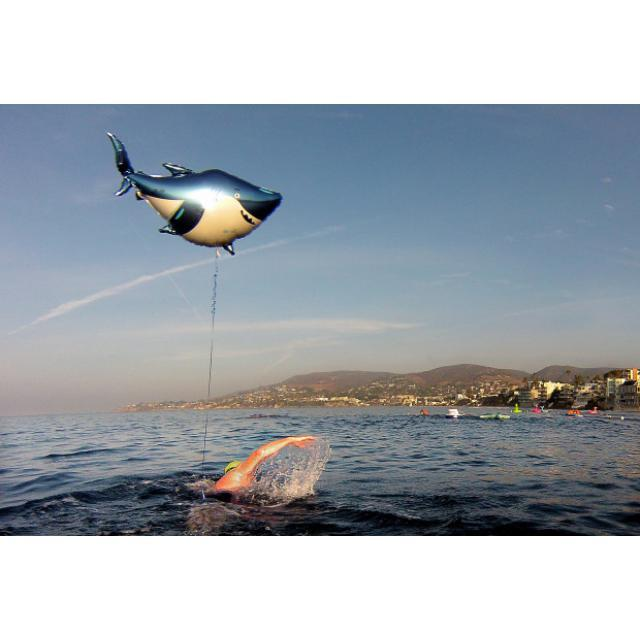human: (206, 428, 319, 499)
